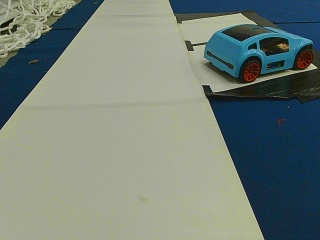car: (203, 24, 315, 82)
